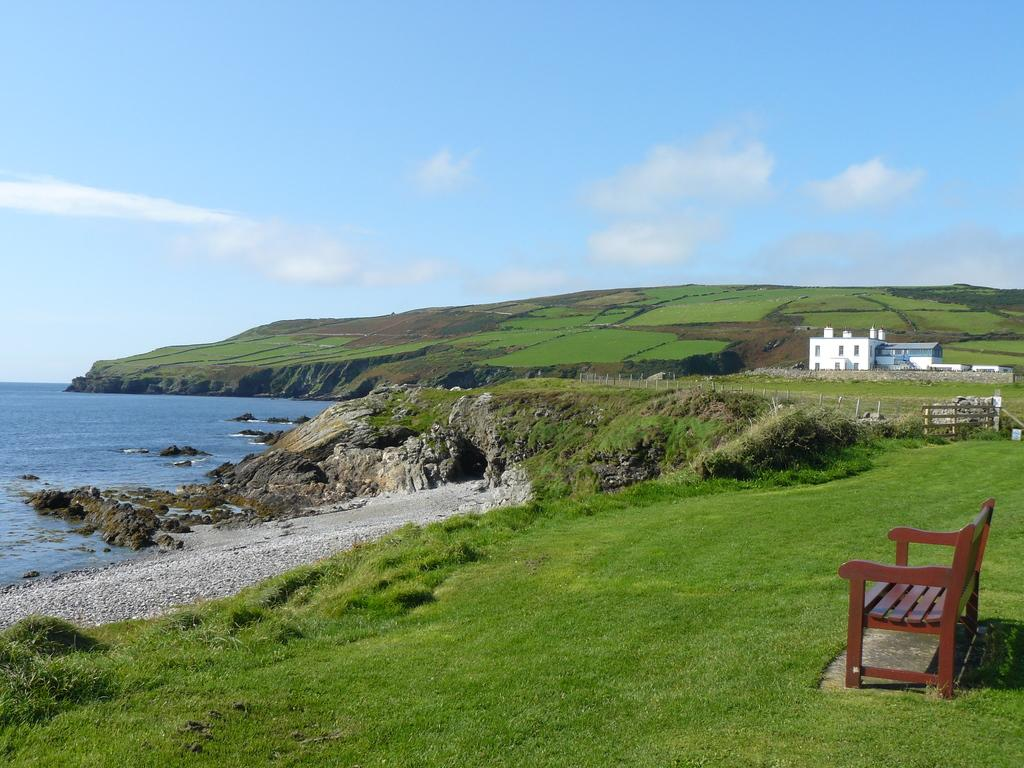Chair: (837, 498, 1005, 714)
